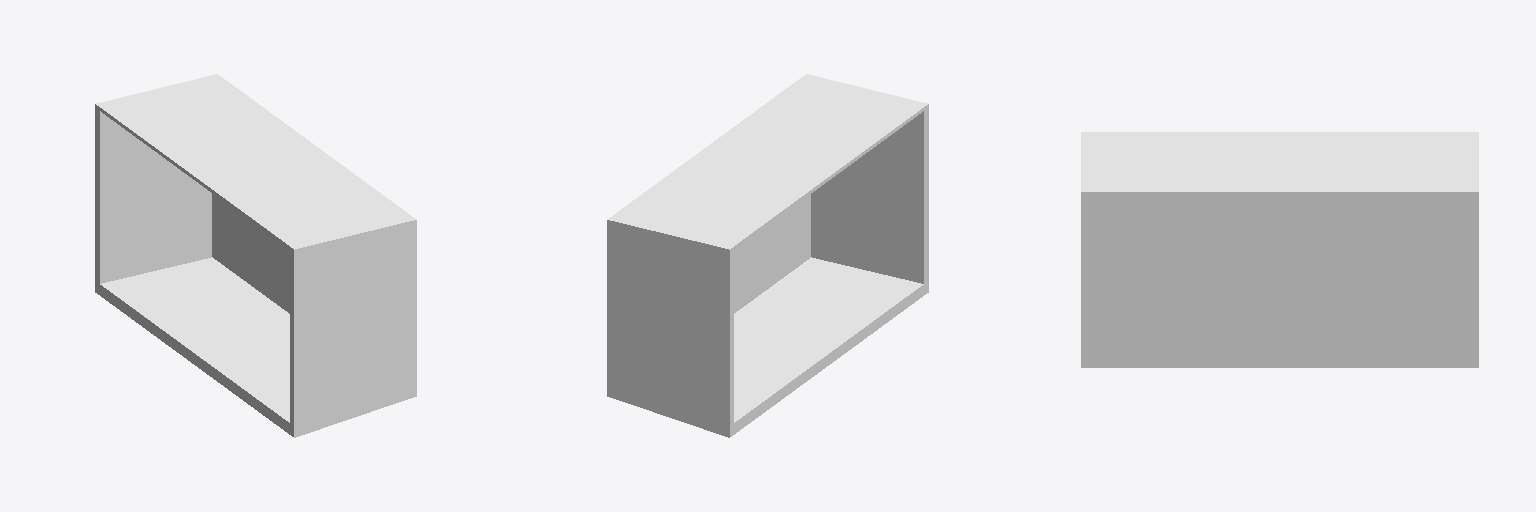
File: GateR.obj
3 renders of one model, left to right at view 1: azimuth 30°, elevation 25°; view 2: azimuth 150°, elevation 25°; view 3: azimuth 270°, elevation 25°, orthographic.
Visible parts, largest first — view 1: GateR; view 2: GateR; view 3: GateR.
Boxes of the visible parts, <box> form: GateR: <box>95,74,416,437</box>; GateR: <box>607,74,928,437</box>; GateR: <box>1081,132,1478,367</box>.
Bounding box in the file's own units: 1.93 × 2.83 × 5.42.